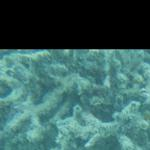dead: (3, 50, 148, 149)
